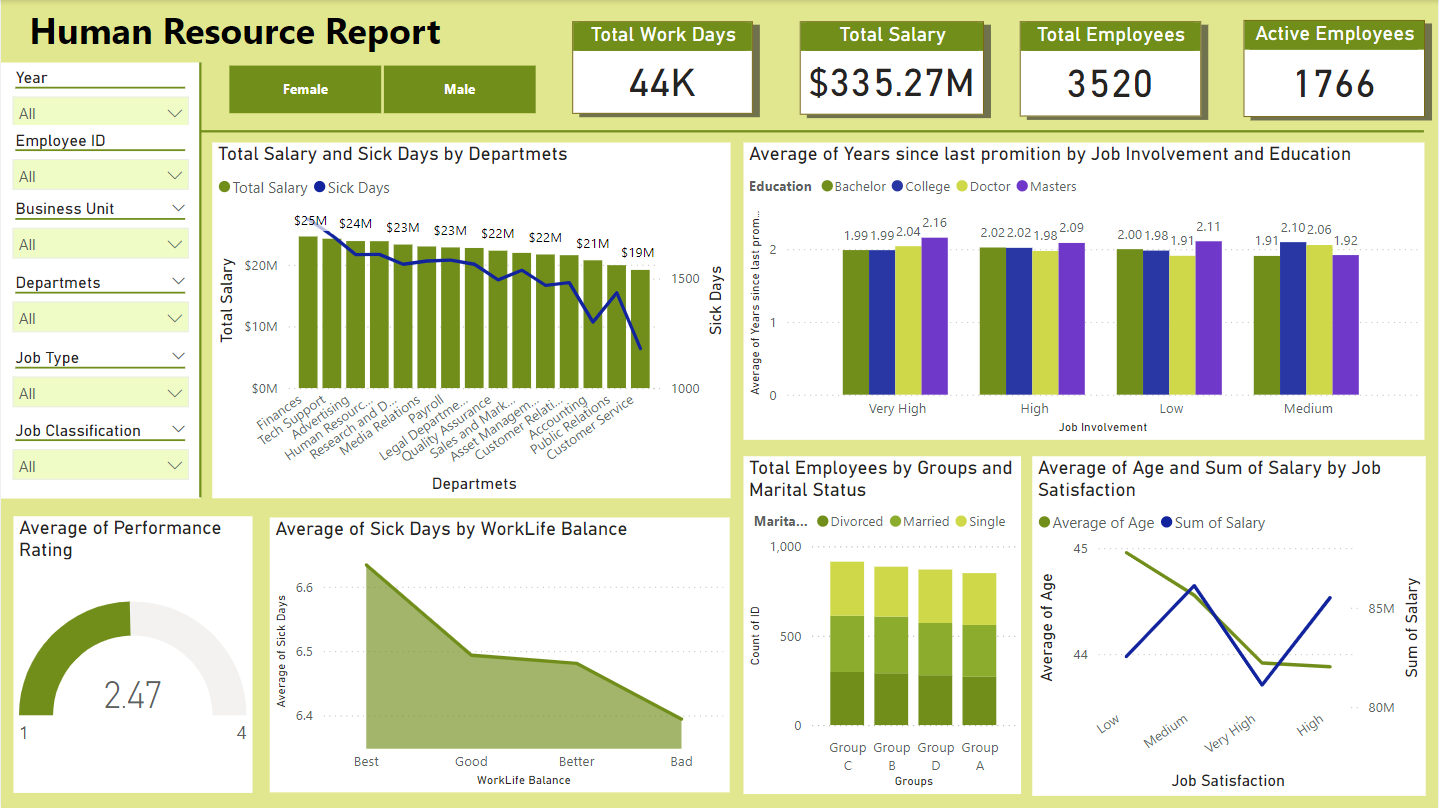

What the dashboard file says about the page in this screenshot:
{"tool":"powerbi","page":{"name":"Page 1","canvas":[1280,720],"ordinal":0},"visuals":[{"type":"textbox","box":[10.5,0,396.5,61.6],"z":0},{"type":"slicer","fields":{"Values":["Human-Resources.Date.Variation.Date Hierarchy.Year"]},"box":[0,61.5,177.3,71.2],"z":1000},{"type":"card","title":"Total Salary","fields":{"Values":["Human-Resources.Total Salary"]},"box":[711.7,19.3,164.1,83.1],"z":2000},{"type":"card","title":"Total Employees","fields":{"Values":["DAX Measures.Total Employee"]},"box":[907.5,18.8,161.2,85],"z":3000},{"type":"card","title":"Active Employees","fields":{"Values":["DAX Measures.Active Employees"]},"box":[1106.2,17.5,161.2,86.2],"z":4000},{"type":"slicer","fields":{"Values":["Human-Resources.Gender"]},"box":[182.5,51.2,312.5,56.2],"z":5000},{"type":"shape","box":[176.2,111.2,1091.2,11.2],"z":6000},{"type":"card","title":"Total Work Days","fields":{"Values":["DAX Measures.Balance Days"]},"box":[509.1,19.1,160.9,82.7],"z":7000},{"type":"slicer","fields":{"Values":["Human-Resources.ID"]},"box":[0,126.7,177.3,73.6],"z":8000},{"type":"slicer","fields":{"Values":["Human-Resources.Business Unit"]},"box":[0,195.4,177.3,74.8],"z":9000},{"type":"lineClusteredColumnComboChart","title":"Total Salary and Sick Days by Departmets","fields":{"Category":["Human-Resources.Departmets"],"Y":["DAX Measures.Total Salary"],"Y2":["DAX Measures.Sick Days"]},"box":[188.2,126.7,460.9,342.6],"z":10000},{"type":"lineChart","fields":{"Category":["Human-Resources.Job Satisfaction"],"Y":["Avg(Human-Resources.Age)"],"Y2":["Sum(Human-Resources.Salary)"]},"box":[918.9,405.8,350.4,302.1],"z":11000},{"type":"clusteredColumnChart","fields":{"Y":["Avg(Human-Resources.Years since last promition)"],"Category":["Human-Resources.Job Involvement"],"Series":["Human-Resources.Education"]},"box":[661.5,126.9,606,264.6],"z":12000},{"type":"columnChart","title":"Total Employees by Groups and Marital Status","fields":{"Series":["Human-Resources.Marital Status"],"Category":["Human-Resources.Groups"],"Y":["CountNonNull(Human-Resources.ID)"]},"box":[661.1,406.6,247.3,300.4],"z":13000},{"type":"stackedAreaChart","fields":{"Category":["Human-Resources.WorkLife Balance"],"Y":["Avg(Human-Resources.Sick Days)"]},"box":[240.1,482.6,409,223.2],"z":15000},{"type":"slicer","fields":{"Values":["Human-Resources.Job Type"]},"box":[0,330.6,177.3,74.8],"z":16000},{"type":"slicer","fields":{"Values":["Human-Resources.Departmets"]},"box":[0,263,177.3,76],"z":17000},{"type":"slicer","fields":{"Values":["Human-Resources.Job Classification"]},"box":[0,395.7,177.3,73.6],"z":18000},{"type":"shape","box":[171.3,61.5,12.1,407.8],"z":19000},{"type":"gauge","title":"Average of Performance Rating","fields":{"Y":["Avg(Human-Resources.Performance Rating)"],"MinValue":["Min(Human-Resources.Performance Rating)1"],"MaxValue":["Max(Human-Resources.Performance Rating)2"]},"box":[10.9,482.6,212.3,223.2],"z":20000}]}

Visuals, with their boxes in screenshot pixels (x1, y1, x2, y2), scaled from the page's 1280x720 canvas onto the 1439x808 screenshot:
textbox: [12,0,458,69]
slicer - Human-Resources.Date.Variation.Date Hierarchy.Year: [0,69,199,149]
"Total Salary" card: [800,22,985,115]
"Total Employees" card: [1020,21,1201,116]
"Active Employees" card: [1244,20,1425,116]
slicer - Human-Resources.Gender: [205,57,556,121]
shape: [198,125,1425,137]
"Total Work Days" card: [572,21,753,114]
slicer - Human-Resources.ID: [0,142,199,225]
slicer - Human-Resources.Business Unit: [0,219,199,303]
"Total Salary and Sick Days by Departmets" lineClusteredColumnComboChart: [212,142,730,527]
lineChart - Human-Resources.Job Satisfaction x Avg(Human-Resources.Age): [1033,455,1427,794]
clusteredColumnChart - Avg(Human-Resources.Years since last promition) x Human-Resources.Job Involvement: [744,142,1425,439]
"Total Employees by Groups and Marital Status" columnChart: [743,456,1021,793]
stackedAreaChart - Human-Resources.WorkLife Balance x Avg(Human-Resources.Sick Days): [270,542,730,792]
slicer - Human-Resources.Job Type: [0,371,199,455]
slicer - Human-Resources.Departmets: [0,295,199,380]
slicer - Human-Resources.Job Classification: [0,444,199,527]
shape: [193,69,206,527]
"Average of Performance Rating" gauge: [12,542,251,792]
